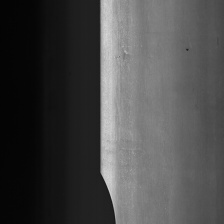inclusion: (97, 165, 122, 224), (112, 41, 128, 66), (185, 46, 188, 53)
